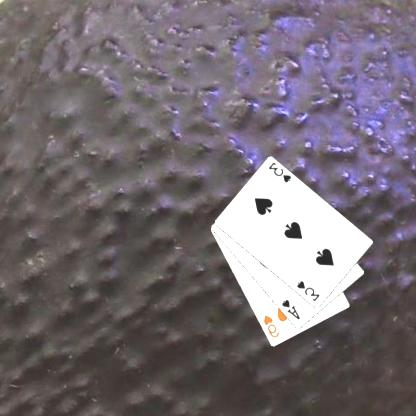3S: (296, 278, 323, 303), (268, 160, 294, 185)
6H: (262, 313, 282, 339)
AS: (280, 297, 303, 321)
